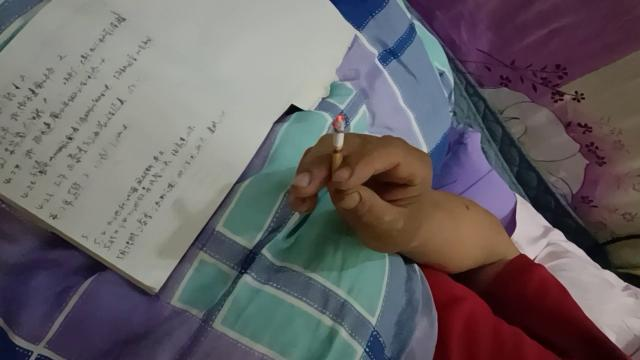Smoking: (330, 112, 348, 185)
